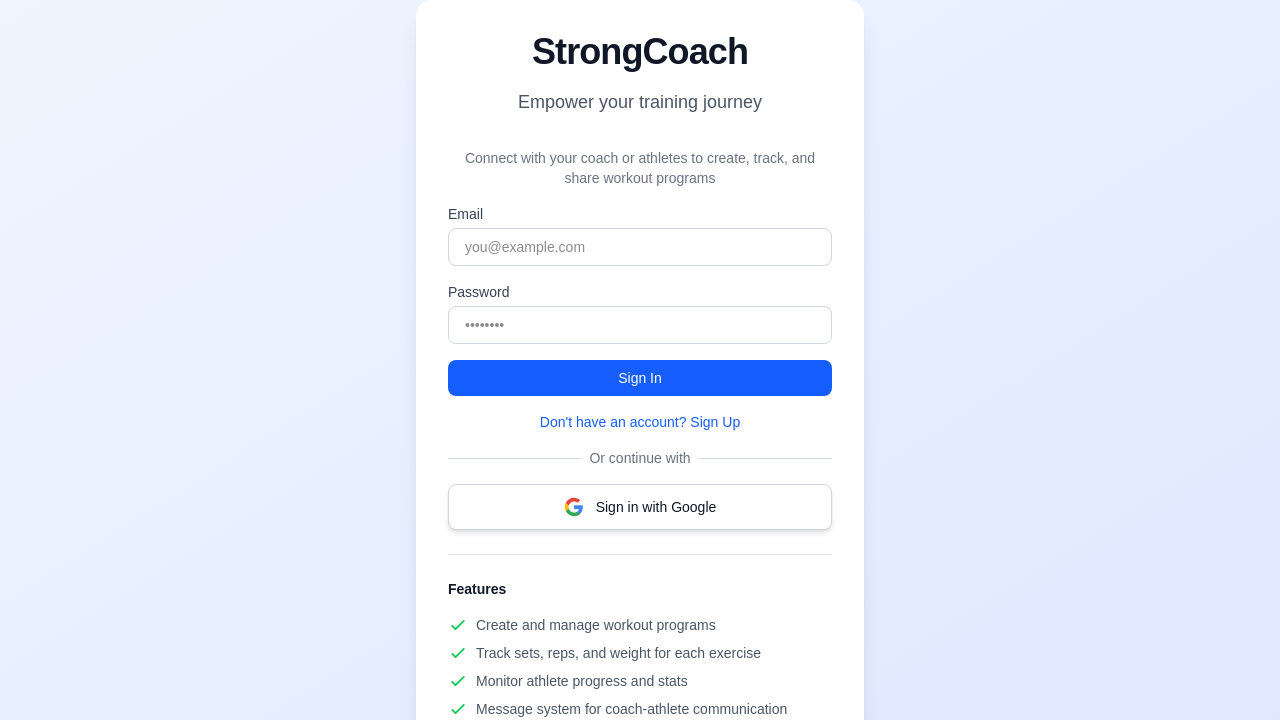
Test: Authentication Flow › Email/Password Authentication - UI Tests › should toggle between sign-in and sign-up modes
Expected: the button "Sign In" is shown, top-left (448, 360), bottom-right (832, 396)
Note: Switch to sign-up mode
Click the button "Don't have an account? Sign Up": point(640, 422) top-left (448, 412), bottom-right (832, 432)
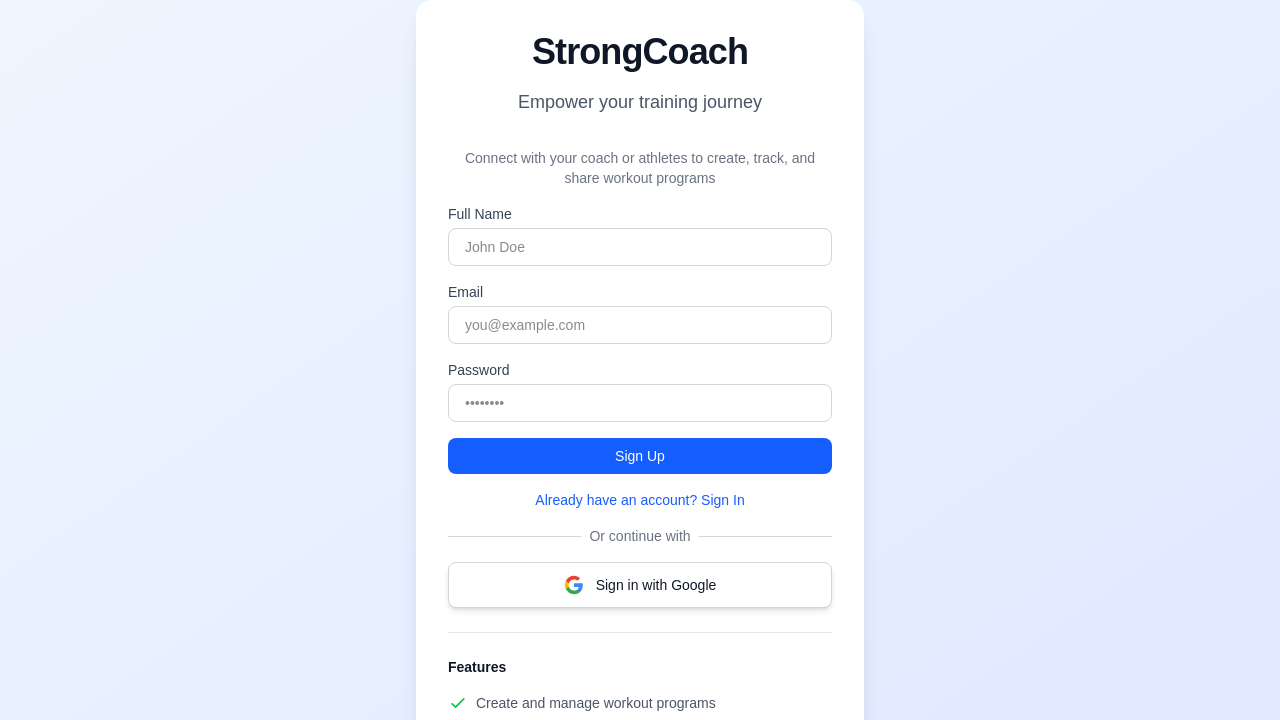
Result: the button "Sign Up" is shown at top-left (448, 438), bottom-right (832, 474)
Result: the field with id "fullName" is shown at top-left (448, 228), bottom-right (832, 266)
Note: Switch back to sign-in mode
Click the button "Already have an account? Sign In": point(640, 500) top-left (448, 490), bottom-right (832, 510)
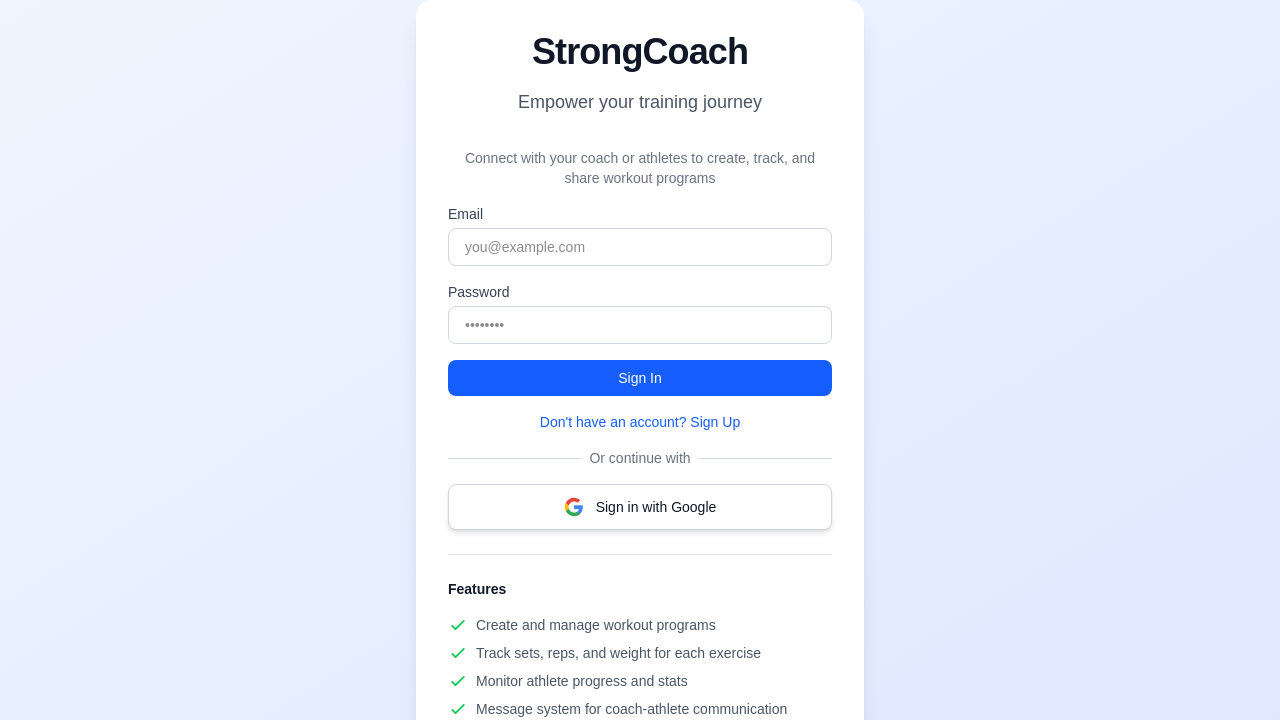
Result: the button "Sign In" is shown at top-left (448, 360), bottom-right (832, 396)
Result: the label with id "fullName" is gone
